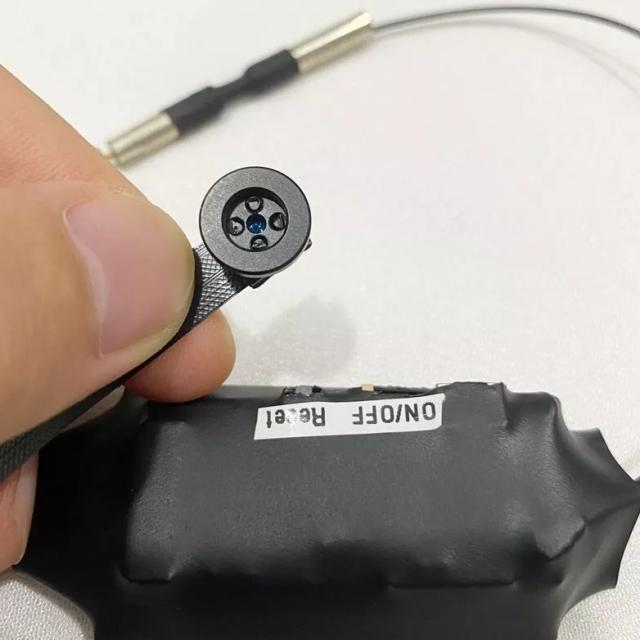hidden camera: (226, 191, 289, 252)
